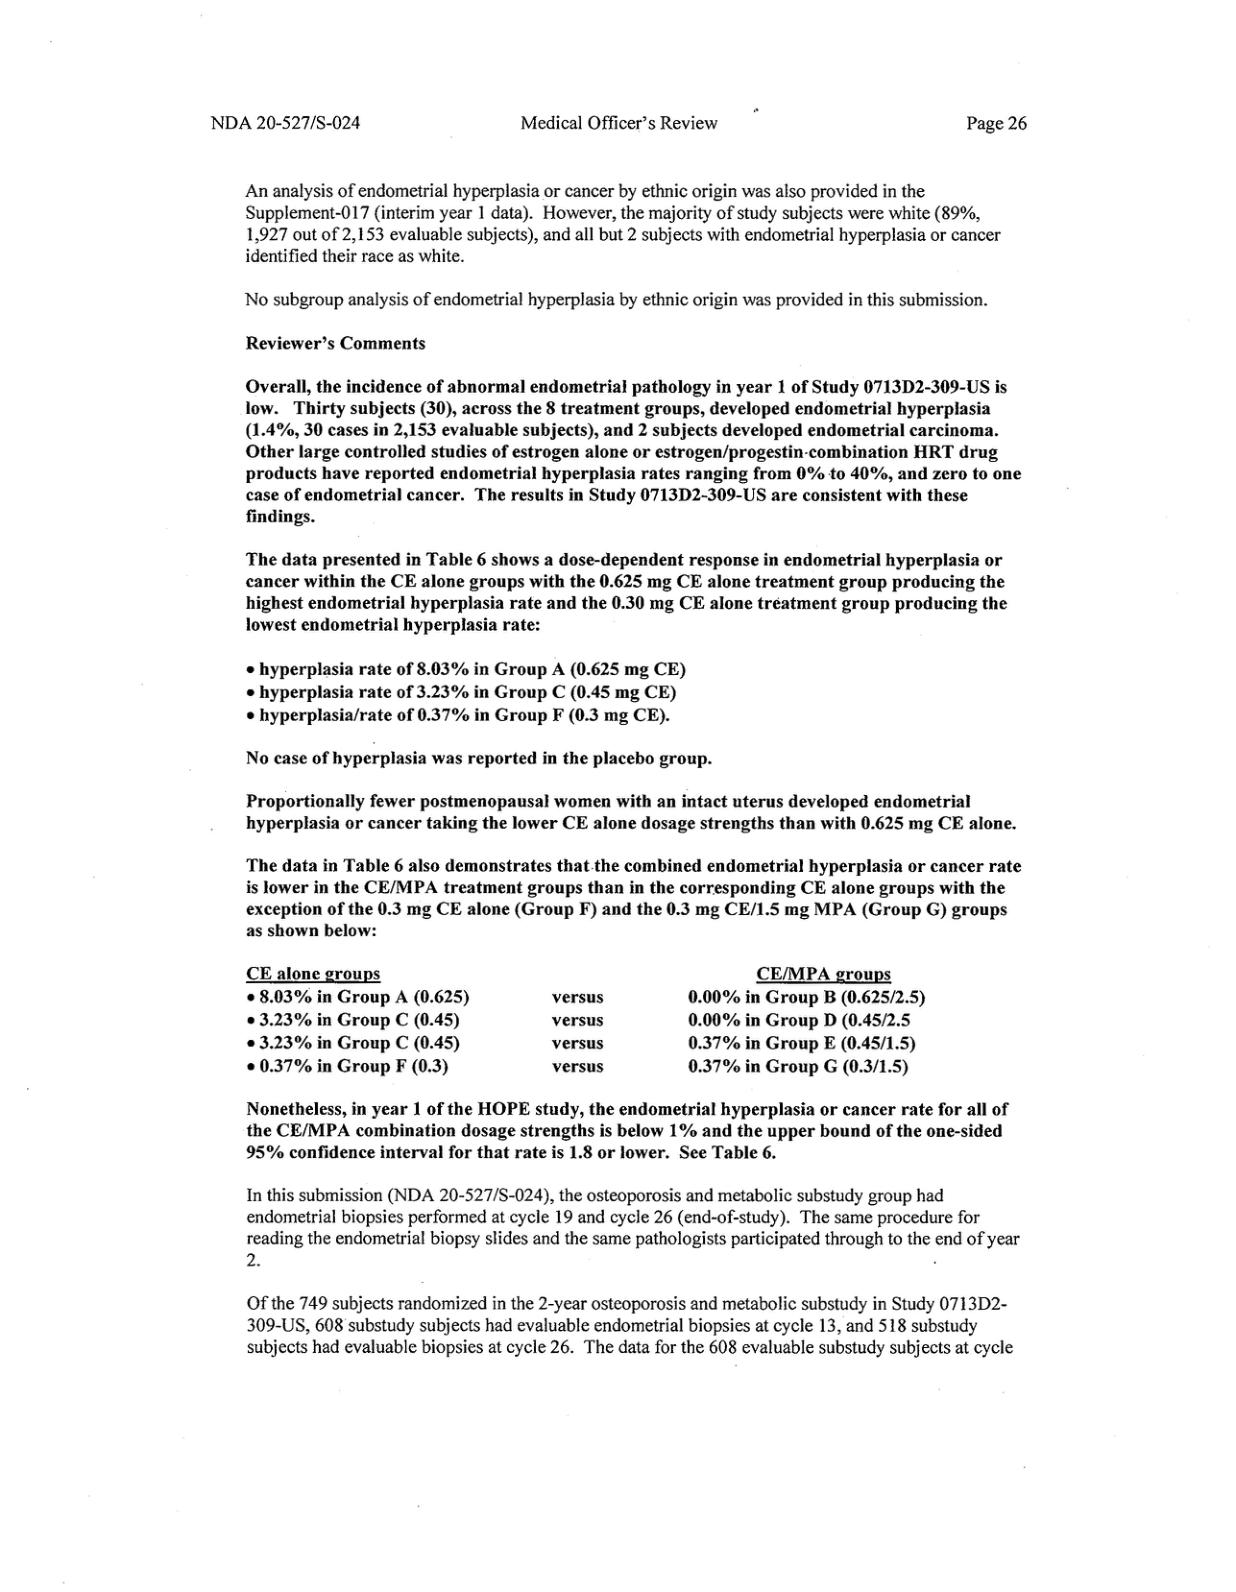nolines: (242, 961, 927, 1079)
